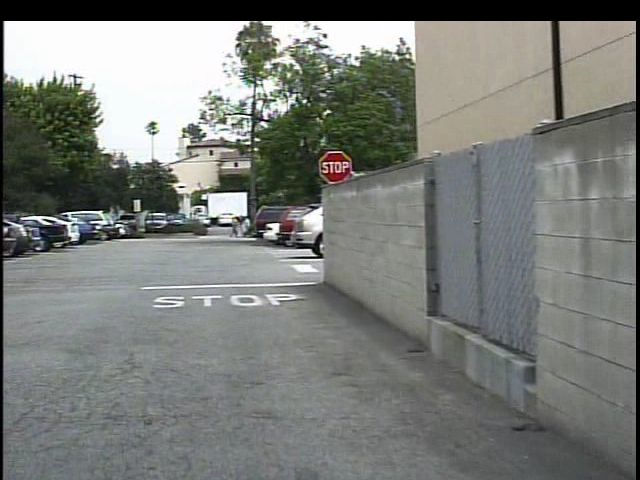person: (221, 215, 236, 241), (233, 215, 246, 241)
